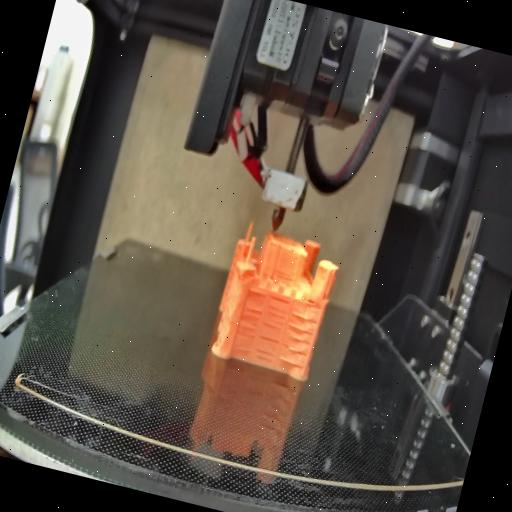cracks: (276, 311, 318, 370), (232, 302, 263, 356), (262, 293, 290, 330), (250, 333, 280, 362), (248, 287, 268, 299), (302, 295, 318, 307)
